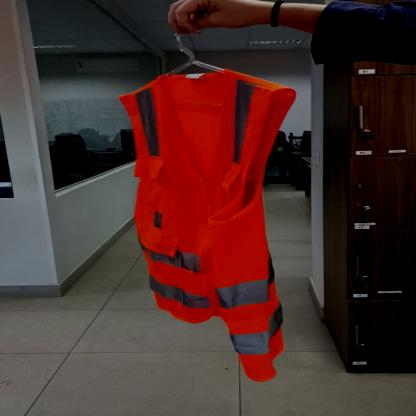colete: (114, 66, 300, 385)
